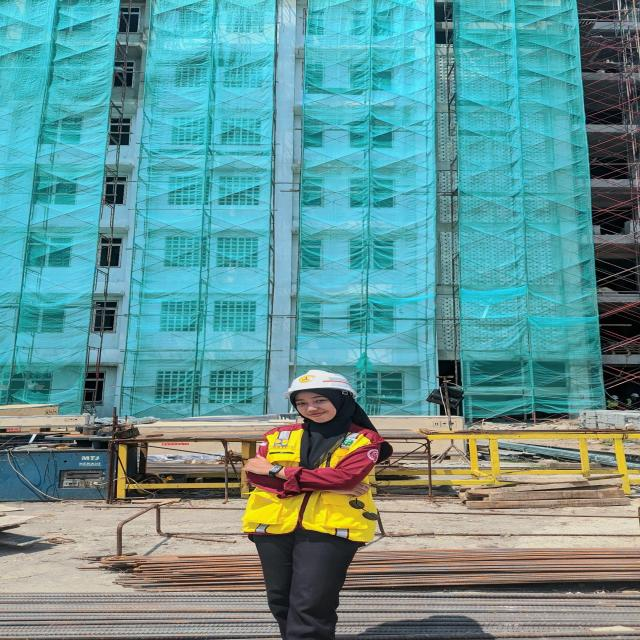safetyhelmet: (279, 358, 379, 434)
